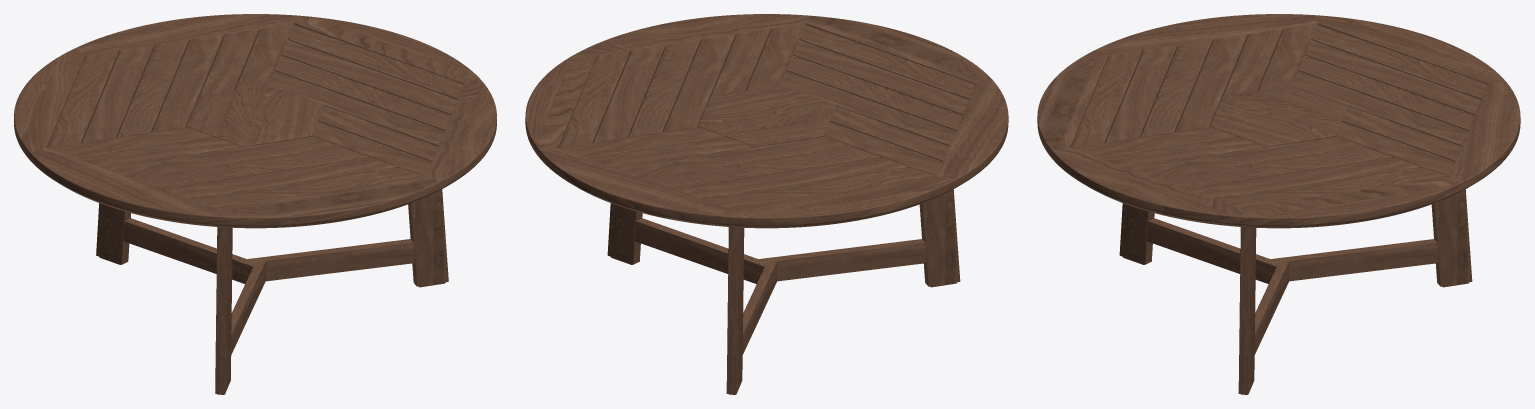
File: DTB-001.glb
The picture shows the model from 3 angles, left to right: view 1: azimuth 30°, elevation 25°; view 2: azimuth 150°, elevation 25°; view 3: azimuth 270°, elevation 25°; orthographic projection.
Parts seen in each view (by area): view 1: GINESTRA_RoundTable; view 2: GINESTRA_RoundTable; view 3: GINESTRA_RoundTable.
Boxes of the visible parts, x1,y1,x2,y2 form: GINESTRA_RoundTable: (14, 14, 496, 394); GINESTRA_RoundTable: (525, 14, 1008, 394); GINESTRA_RoundTable: (1037, 14, 1520, 394).
Bounding box in the file's own units: 1.64 × 0.7335 × 1.64.
Materials: 1 (1 with a texture image).
